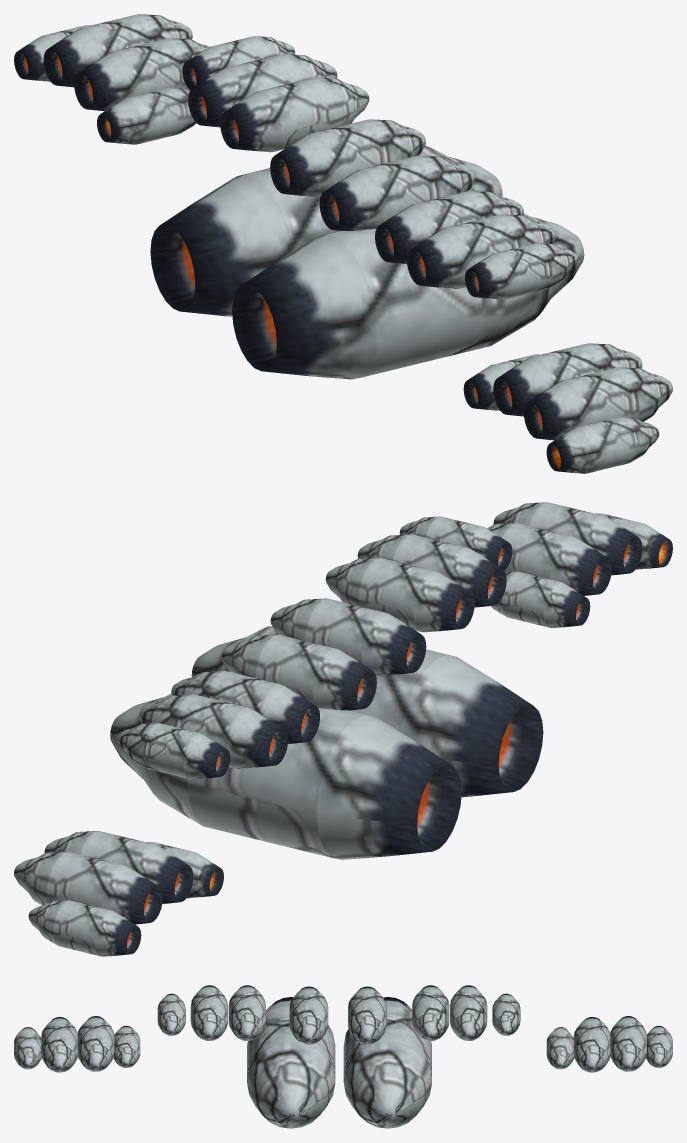
File: Large_G1Engine.obj
3 views of the same model, one above another, from view 1: azimuth 30°, elevation 25°; view 2: azimuth 150°, elevation 25°; view 3: azimuth 270°, elevation 25° (orthographic). The views are drawn at different scales.
Visible parts, largest first — view 1: pCube112 polySurface150, pCube112 polySurface151, pCube115 polySurface148, pCube112 polySurface152, pCube112 polySurface149, pCube112 polySurface144, pCube114 polySurface147, pCube112 polySurface161, pCube115 polySurface147, polySurface148 pCube114, pCube112 polySurface141, pCube112 polySurface160 (+6 smaller); view 2: pCube112 polySurface151, pCube112 polySurface150, pCube112 polySurface152, polySurface148 pCube114, pCube112 polySurface149, pCube112 polySurface160, pCube115 polySurface147, pCube112 polySurface141, pCube114 polySurface147, pCube115 polySurface148, polySurface146 pCube115, polySurface153 pCube112 (+6 smaller); view 3: pCube112 polySurface151, pCube112 polySurface150, pCube112 polySurface149, pCube112 polySurface152, pCube115 polySurface148, pCube112 polySurface141, pCube115 polySurface147, polySurface148 pCube114, pCube114 polySurface147, pCube112 polySurface161, pCube112 polySurface144, pCube112 polySurface160 (+6 smaller).
Boxes of the visible parts, x1=… form: pCube112 polySurface150: x1=232, y1=213, x2=584, y2=379; pCube112 polySurface151: x1=150, y1=145, x2=502, y2=316; pCube115 polySurface148: x1=220, y1=77, x2=369, y2=152; pCube112 polySurface152: x1=270, y1=119, x2=425, y2=197; pCube112 polySurface149: x1=319, y1=155, x2=475, y2=230; pCube112 polySurface144: x1=523, y1=367, x2=672, y2=440; pCube114 polySurface147: x1=407, y1=214, x2=555, y2=288; pCube112 polySurface161: x1=74, y1=38, x2=209, y2=111; pCube115 polySurface147: x1=188, y1=54, x2=337, y2=127; polySurface148 pCube114: x1=375, y1=190, x2=523, y2=264; pCube112 polySurface141: x1=493, y1=343, x2=642, y2=416; pCube112 polySurface160: x1=43, y1=14, x2=192, y2=87; pCube112 polySurface151: x1=110, y1=693, x2=461, y2=859; pCube112 polySurface150: x1=191, y1=626, x2=543, y2=797; pCube112 polySurface152: x1=221, y1=634, x2=376, y2=710; polySurface148 pCube114: x1=325, y1=557, x2=474, y2=632; pCube112 polySurface149: x1=270, y1=598, x2=426, y2=676; pCube112 polySurface160: x1=14, y1=851, x2=162, y2=924; pCube115 polySurface147: x1=139, y1=694, x2=287, y2=768; pCube112 polySurface141: x1=487, y1=523, x2=611, y2=595; pCube114 polySurface147: x1=357, y1=534, x2=506, y2=607; pCube115 polySurface148: x1=171, y1=670, x2=319, y2=743; polySurface146 pCube115: x1=117, y1=723, x2=230, y2=779; polySurface153 pCube112: x1=28, y1=900, x2=141, y2=956; pCube112 polySurface151: x1=343, y1=997, x2=431, y2=1128; pCube112 polySurface150: x1=247, y1=997, x2=335, y2=1128; pCube112 polySurface149: x1=289, y1=986, x2=328, y2=1044; pCube112 polySurface152: x1=348, y1=986, x2=386, y2=1044; pCube115 polySurface148: x1=412, y1=985, x2=449, y2=1040; pCube112 polySurface141: x1=77, y1=1016, x2=114, y2=1071; pCube115 polySurface147: x1=450, y1=985, x2=487, y2=1040; polySurface148 pCube114: x1=228, y1=985, x2=265, y2=1040; pCube114 polySurface147: x1=190, y1=985, x2=227, y2=1040; pCube112 polySurface161: x1=573, y1=1017, x2=610, y2=1072; pCube112 polySurface144: x1=41, y1=1017, x2=77, y2=1072; pCube112 polySurface160: x1=610, y1=1016, x2=646, y2=1071.
Bounding box in the file's own units: 5.2 × 2.85 × 15.55.
Materials: 1 (1 with a texture image).
